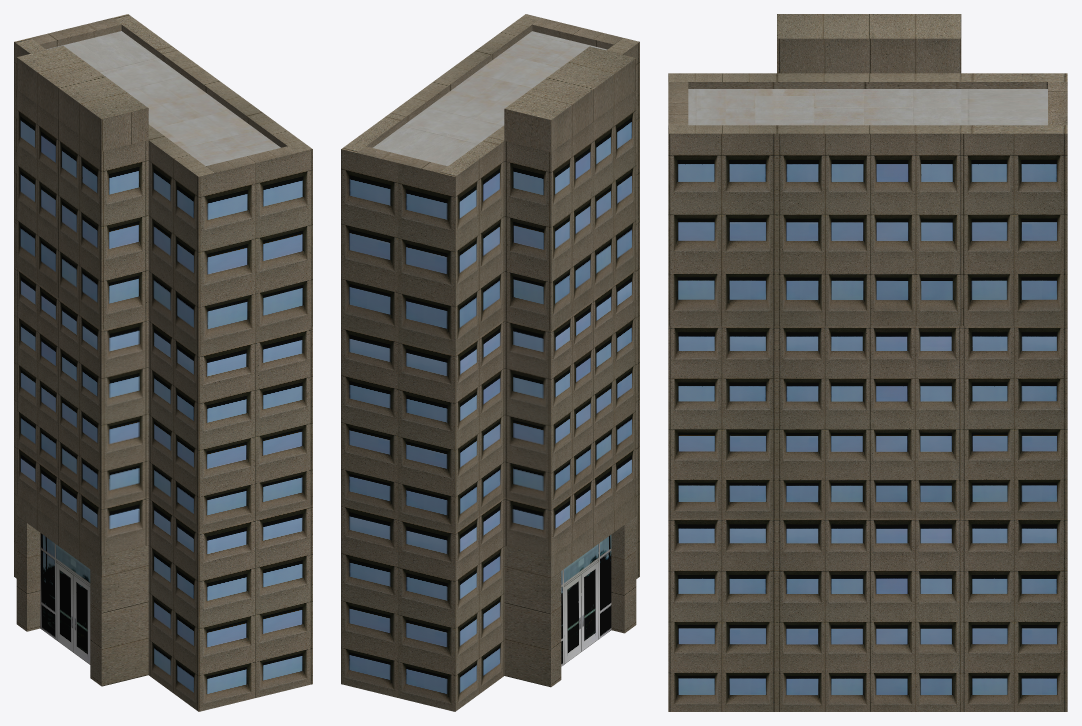
File: house6.FBX
3 views of the same model, side by side, from view 1: azimuth 30°, elevation 25°; view 2: azimuth 150°, elevation 25°; view 3: azimuth 270°, elevation 25° (orthographic). The views are drawn at different scales.
Parts seen in each view (by area): view 1: Box001; view 2: Box001; view 3: Box001.
Boxes of the visible parts, x1,y1,x2,y2 form: Box001: (14, 14, 312, 711); Box001: (341, 14, 639, 711); Box001: (668, 14, 1067, 711).
Bounding box in the file's own units: 75.19 × 253 × 150.
